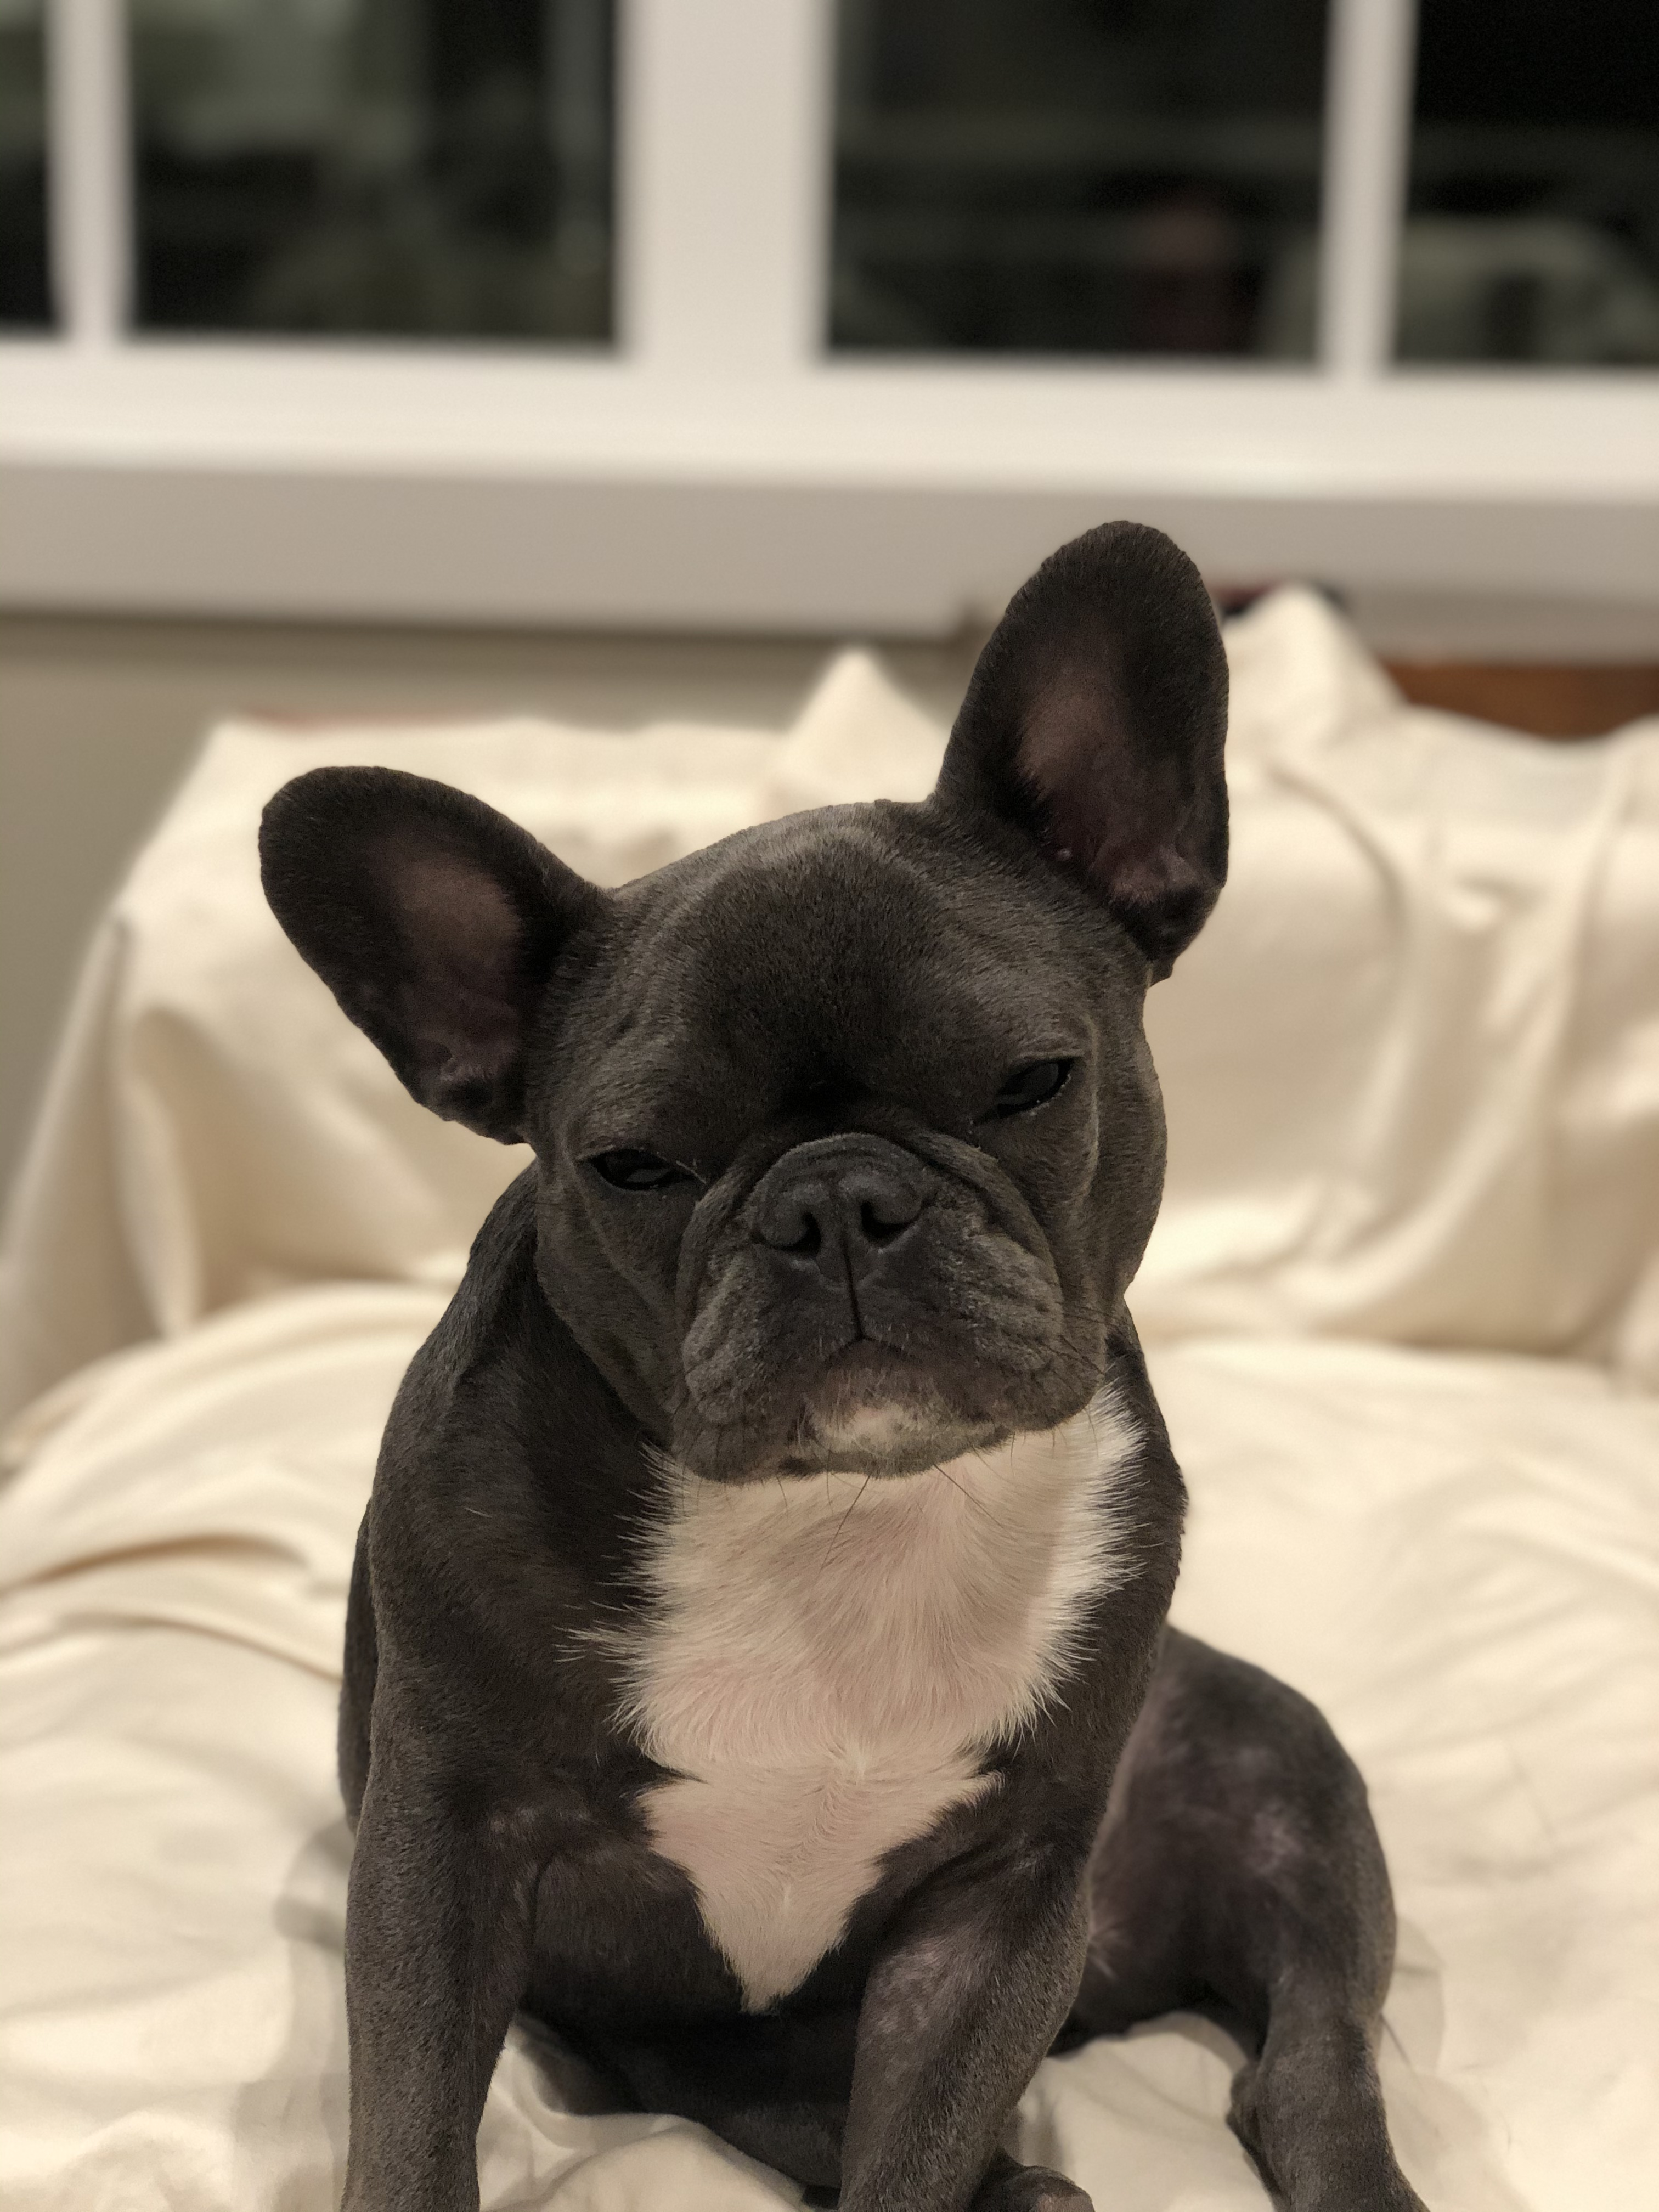lucy: (230, 514, 1445, 2202)
